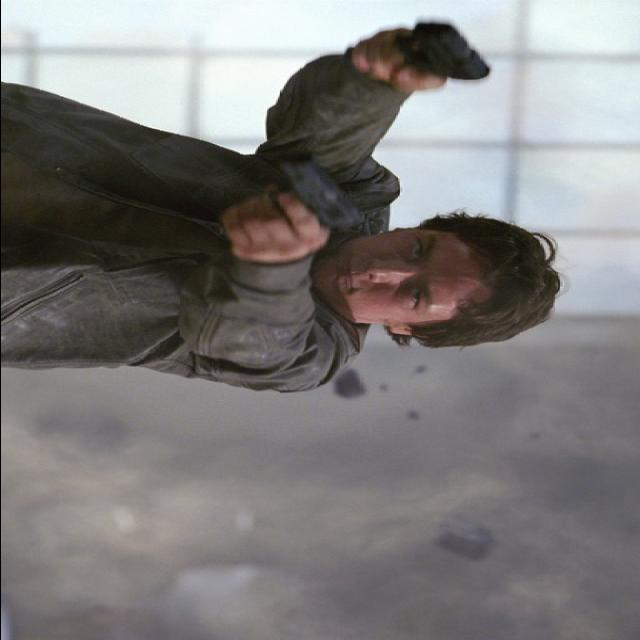weapons: (205, 145, 392, 269), (340, 16, 526, 104)
